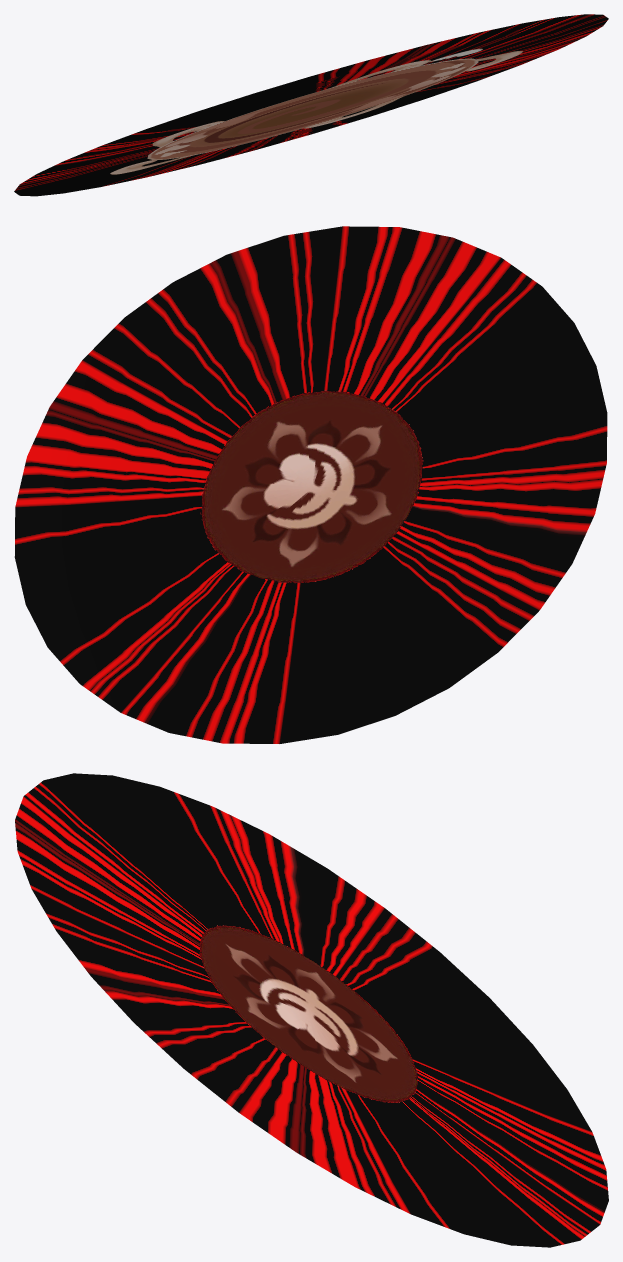
The model's file is fx_cookie0516_skill02_magic_start.fbx.
The picture shows the model from 3 angles, top to bottom: view 1: azimuth 30°, elevation 25°; view 2: azimuth 150°, elevation 25°; view 3: azimuth 270°, elevation 25°; orthographic projection. The views are drawn at different scales.
Parts seen in each view (by area): view 1: magic_02, magic_01; view 2: magic_02; view 3: magic_02.
Part boxes in pixels (x1,y1,x2,y2): magic_02: [14, 14, 608, 196]; magic_01: [110, 48, 522, 174]; magic_02: [14, 226, 607, 743]; magic_02: [15, 773, 608, 1247].
Size of the model in its own units: 1767 by 991 by 1465.
